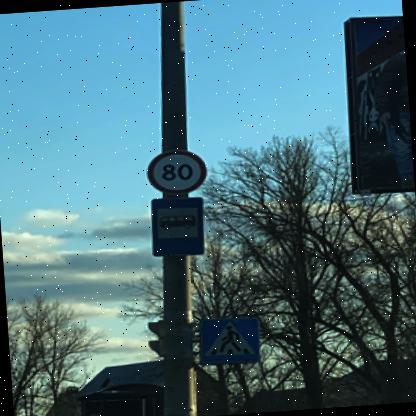crosswalk: (196, 314, 262, 366)
speedlimit: (142, 148, 206, 197)
